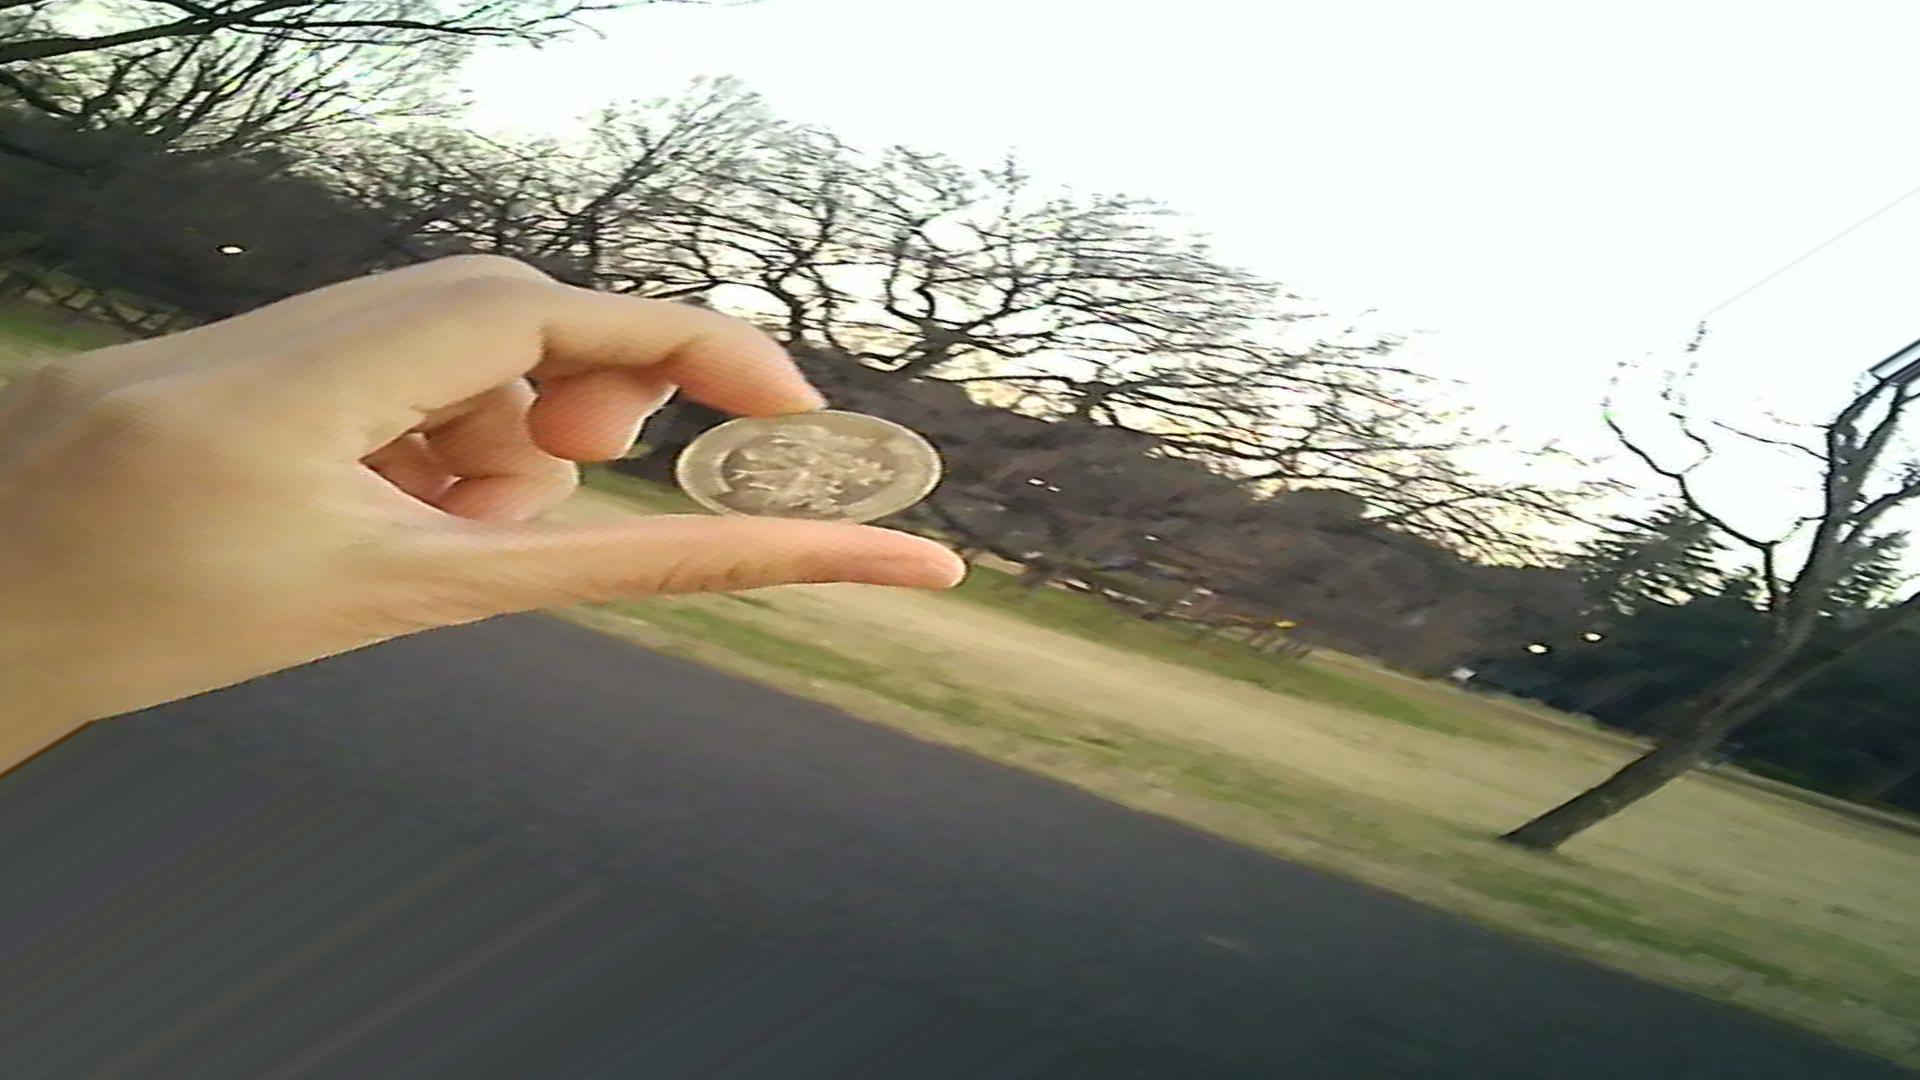500 Yen: (666, 401, 953, 568)
